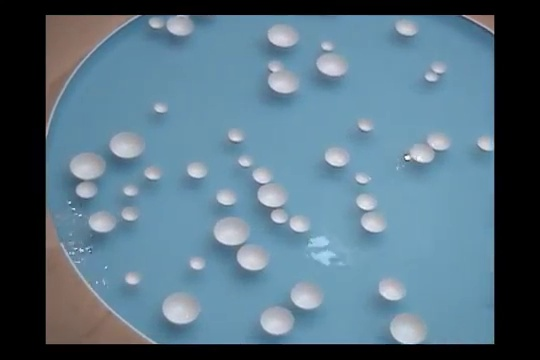bowl: (161, 291, 201, 325), (389, 312, 427, 343), (109, 130, 147, 161), (213, 215, 250, 246), (68, 151, 106, 181), (259, 304, 294, 336), (290, 280, 323, 311), (236, 243, 270, 273), (315, 52, 348, 80), (267, 70, 300, 97), (267, 23, 300, 49), (256, 183, 288, 209), (377, 276, 406, 302), (88, 209, 116, 234), (360, 210, 388, 234), (166, 15, 194, 38), (324, 147, 350, 169), (410, 142, 434, 165), (427, 131, 451, 154), (395, 19, 419, 39), (74, 180, 98, 199), (216, 187, 238, 207), (186, 161, 208, 180), (289, 214, 311, 232), (252, 166, 272, 185), (355, 193, 377, 210), (227, 127, 246, 145), (476, 135, 494, 153), (143, 165, 162, 182), (121, 205, 140, 221), (270, 208, 289, 224), (357, 117, 375, 132), (189, 256, 206, 270), (431, 61, 448, 75), (148, 16, 165, 30), (125, 271, 141, 285), (123, 183, 139, 197), (238, 154, 253, 168), (153, 100, 168, 114), (355, 172, 370, 185), (320, 39, 335, 52), (424, 71, 439, 83)
